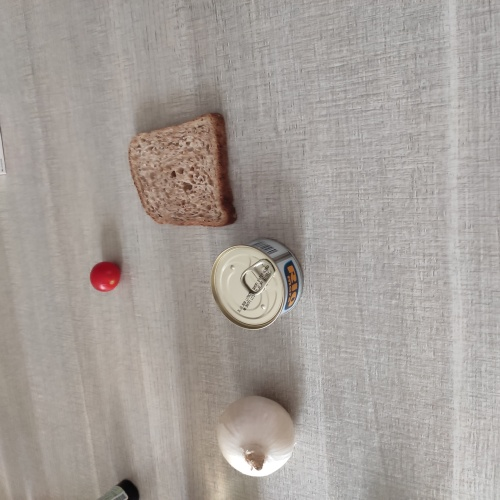cipolla: (211, 391, 300, 480)
pane: (123, 109, 249, 235)
pomodoro: (85, 258, 123, 296)
tonno: (207, 234, 308, 335)
